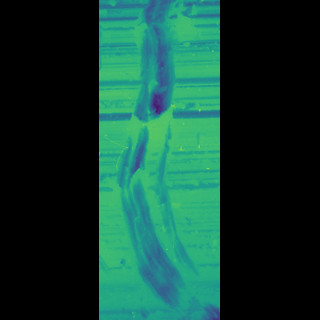Loch: (141, 0, 178, 316), (172, 290, 183, 319), (136, 249, 143, 277)
